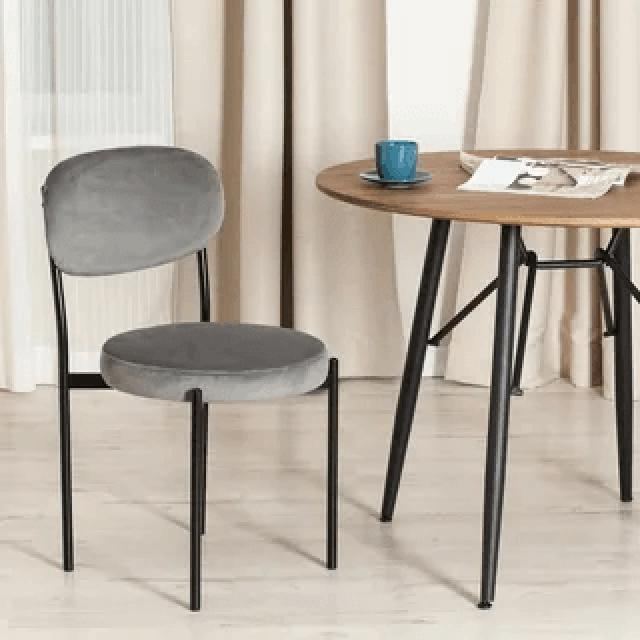chair: (32, 138, 344, 616), (31, 147, 330, 392)
